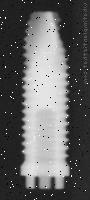Zimmer: (20, 11, 70, 181)
